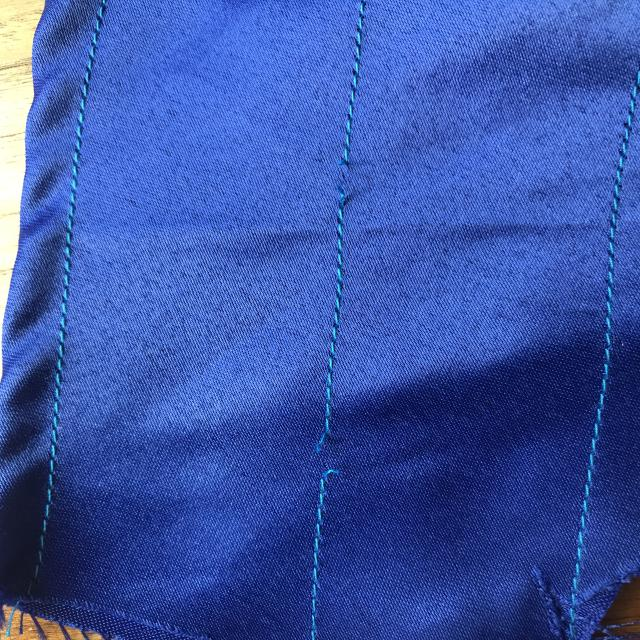broken: (290, 409, 356, 494), (312, 142, 374, 216)
good: (307, 275, 350, 375)
